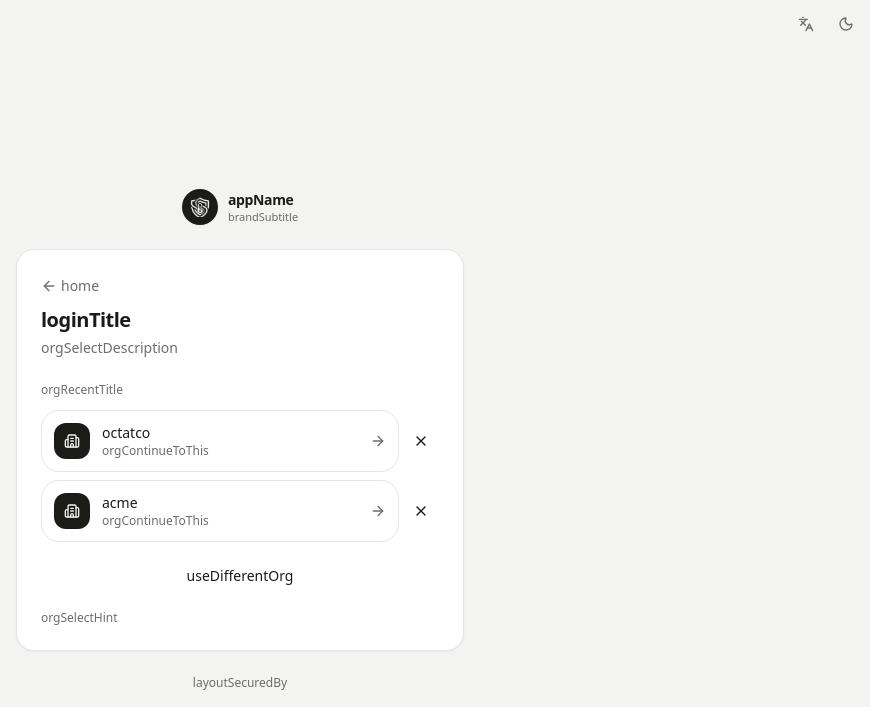
Test: OrgSelect — remembered organizations › drops only the forgotten organization and keeps the rest listed
Expected: the text "octatco" is shown, [102, 423, 150, 442]
Click the button named "orgForget:octatco".
click(421, 441)  # box [403, 423, 439, 459]
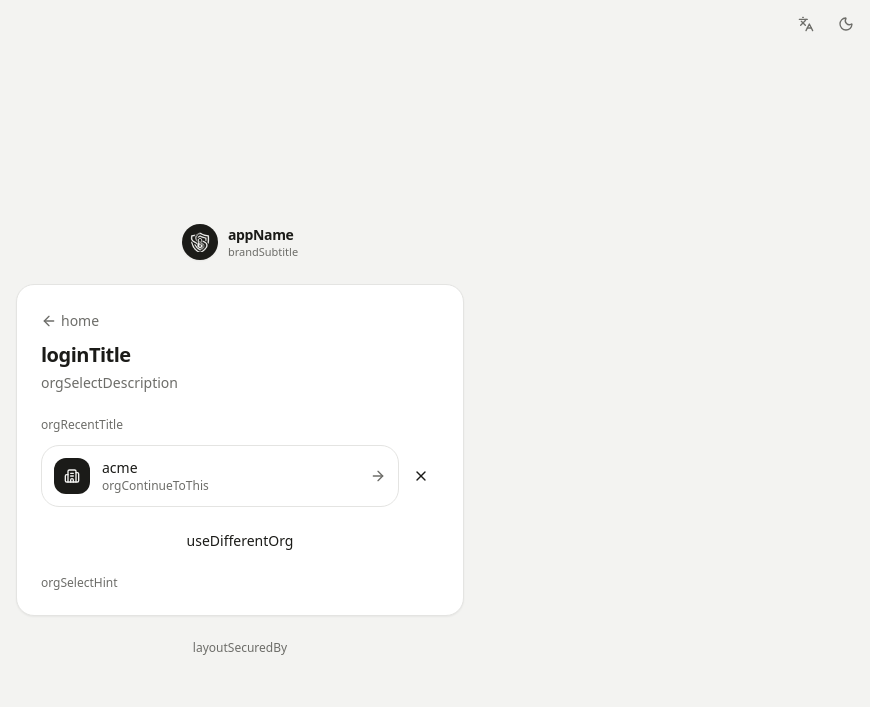
Expected: the text "acme" is shown, [102, 458, 138, 477]
Now the button "octatco" is gone
